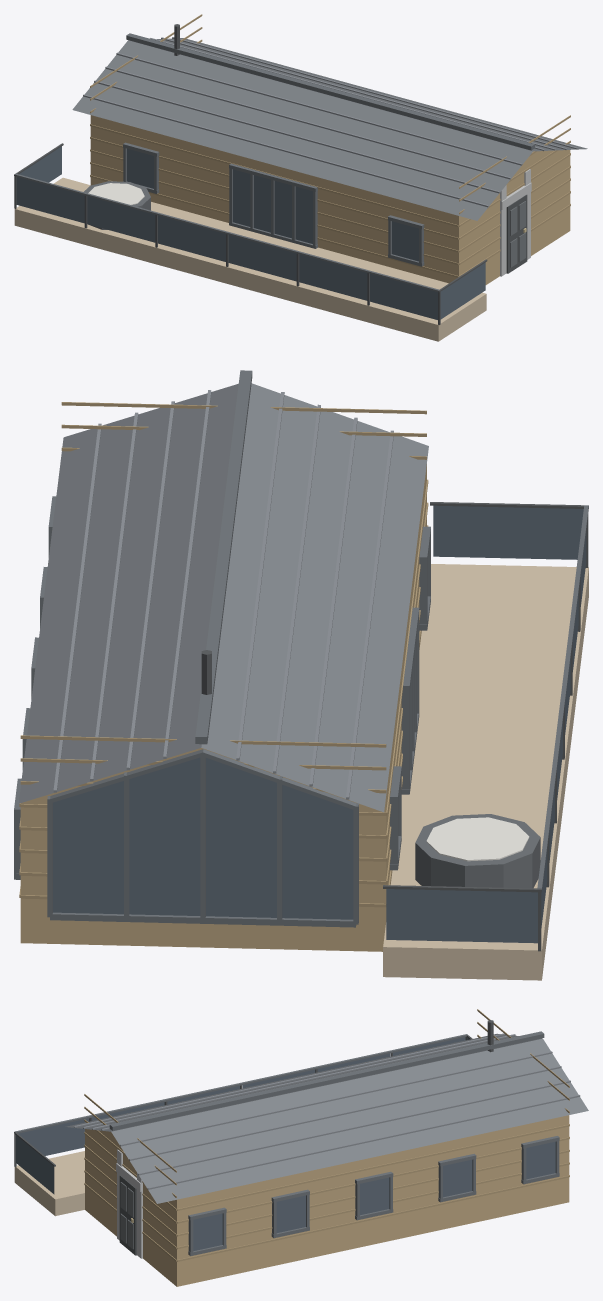
3 views of the same model, one above another, from view 1: azimuth 30°, elevation 25°; view 2: azimuth 150°, elevation 25°; view 3: azimuth 270°, elevation 25° (orthographic). The views are drawn at different scales.
Visible parts, largest first — view 1: slate, door_wood, larch, slate_dk, slate_lt, door_wood_p, window_glass_002, window_glass_004, window_glass_005, window_glass_001, window_glass_006, window_glass_003 (+14 smaller); view 2: slate, larch, window_glass_015, slate_dk, door_wood, slate_lt, window_glass_007, window_glass_008, door_wood_p, band_dark, string, pipe; view 3: slate, door_wood, slate_dk, slate_lt, door_wood_p, larch, window_glass_006, window_glass_008, stone_band, window_glass_016, window_glass_018, window_glass_020 (+5 smaller).
Part boxes in pixels (<box>): slate: <box>72,38,587,220</box>; door_wood: <box>90,115,570,284</box>; larch: <box>14,177,486,341</box>; slate_dk: <box>15,33,534,292</box>; slate_lt: <box>83,37,578,207</box>; door_wood_p: <box>90,14,570,277</box>; window_glass_002: <box>87,196,155,242</box>; window_glass_004: <box>228,235,296,281</box>; window_glass_005: <box>299,254,367,300</box>; window_glass_001: <box>16,177,84,223</box>; window_glass_006: <box>370,273,437,319</box>; window_glass_003: <box>158,215,225,261</box>; slate: <box>18,383,428,812</box>; larch: <box>383,564,588,980</box>; window_glass_015: <box>53,757,353,919</box>; slate_dk: <box>14,370,588,927</box>; door_wood: <box>20,464,426,951</box>; slate_lt: <box>53,390,393,799</box>; window_glass_007: <box>386,889,537,943</box>; window_glass_008: <box>433,505,583,559</box>; door_wood_p: <box>19,402,428,907</box>; band_dark: <box>415,814,540,888</box>; string: <box>426,817,529,861</box>; pipe: <box>201,502,588,951</box>; slate: <box>65,1033,588,1203</box>; door_wood: <box>85,1115,569,1286</box>; slate_dk: <box>15,1031,559,1256</box>; slate_lt: <box>74,1033,580,1189</box>; door_wood_p: <box>84,1009,569,1261</box>; larch: <box>14,1151,84,1216</box>; window_glass_006: <box>18,1118,89,1155</box>; window_glass_008: <box>16,1135,54,1194</box>; stone_band: <box>116,1149,142,1258</box>; window_glass_016: <box>193,1213,222,1250</box>; window_glass_018: <box>360,1177,389,1215</box>; window_glass_020: <box>526,1141,555,1179</box>.
Size of the model in its own units: 13.17 by 4.46 by 15.54.
